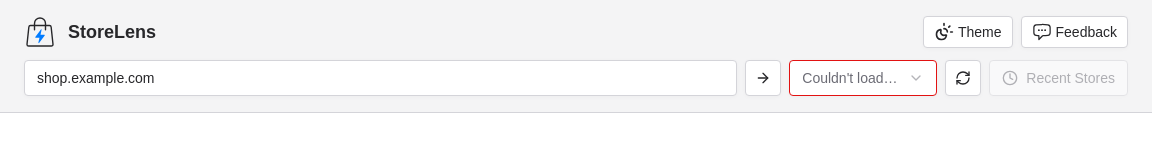
Test case: Header collection dropdown › shows the error text as a disabled entry
This screenshot has width=1152, height=160.
Click the dropdown at x=863, y=78, box left=789, top=60, right=937, bottom=96
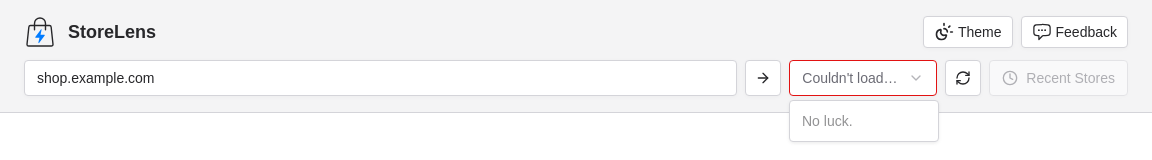
Result: the option reads "No luck." at left=802, top=113, right=853, bottom=129
